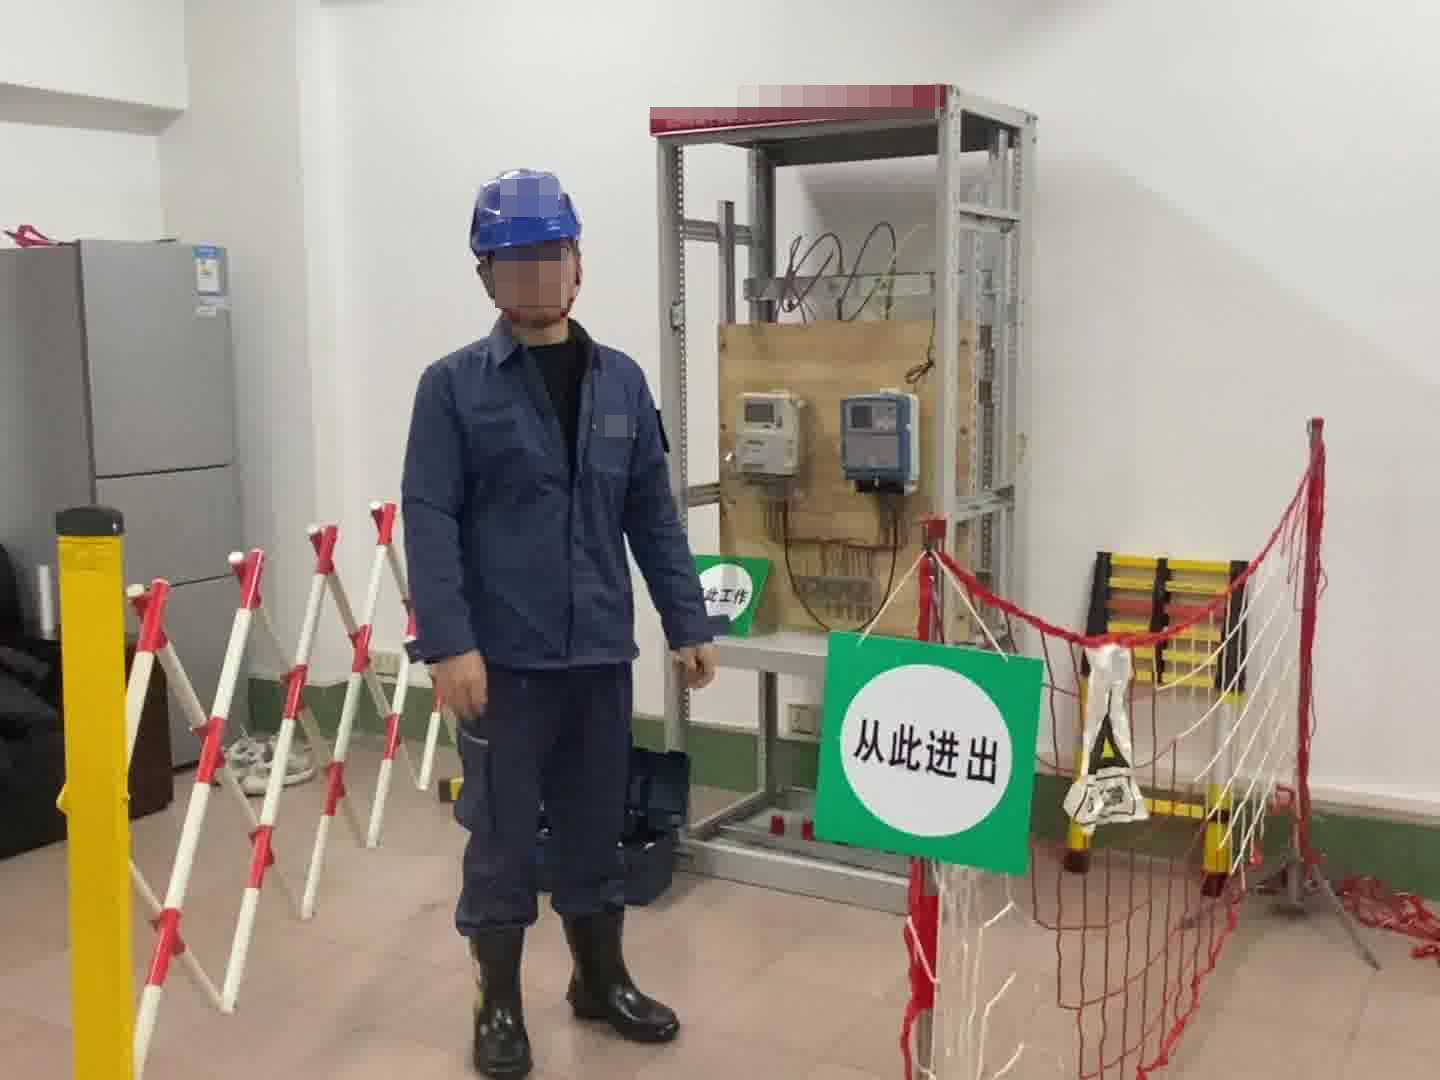downsuit: (447, 663, 647, 928)
halt: (464, 167, 593, 336)
hand: (427, 644, 486, 719), (675, 636, 716, 694)
intosign: (813, 619, 1051, 878)
person: (385, 164, 731, 1077)
shoe: (471, 908, 678, 1080)
upsuit: (397, 331, 715, 662)
worksign: (691, 546, 776, 644)
wrongsuit: (519, 332, 592, 492)
